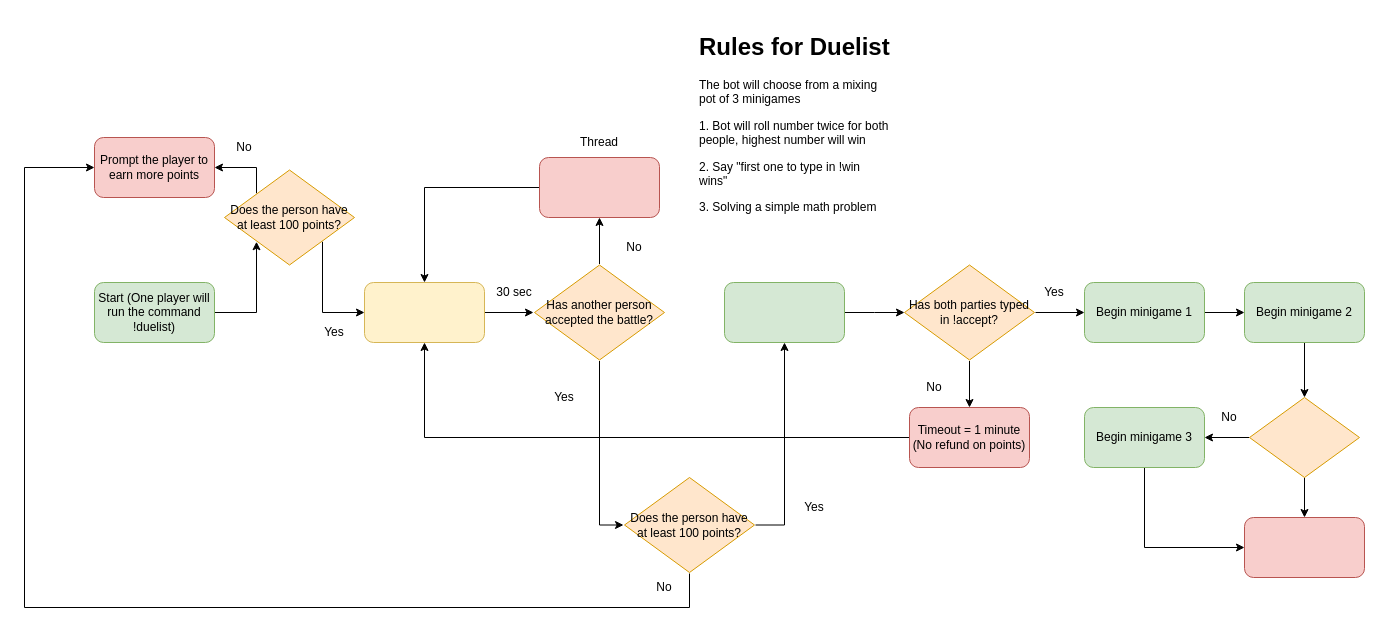
The diagram is 1382 pixels wide and 633 high, and some of its shapes have lost their labels. Each missing label, with the centre of its shape:
Award winner 100xp / Penalize loser 100pts: pixel 1304 547
Does someone have 2 points yet?: pixel 1304 437
Let the battle begin! (Type !accept from both parties to begin): pixel 784 312
Message the chat to see if another person would like to wager: pixel 599 187
Wait for 1 other person to run !duelist: pixel 424 312
